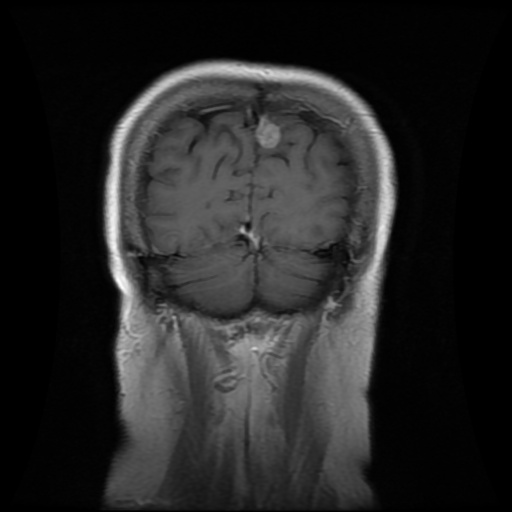meningioma: (255, 114, 281, 147)
